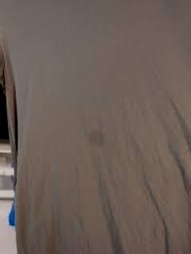oil: (82, 121, 114, 151)
